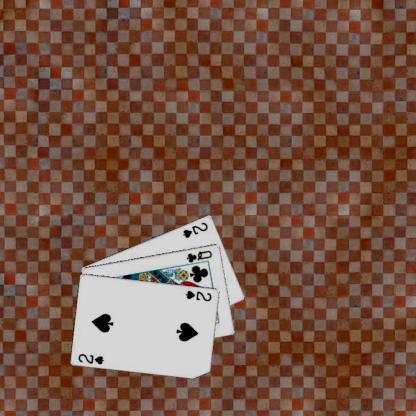2S: (180, 219, 209, 239), (76, 351, 106, 366), (183, 288, 213, 302)
QC: (184, 247, 214, 263)
